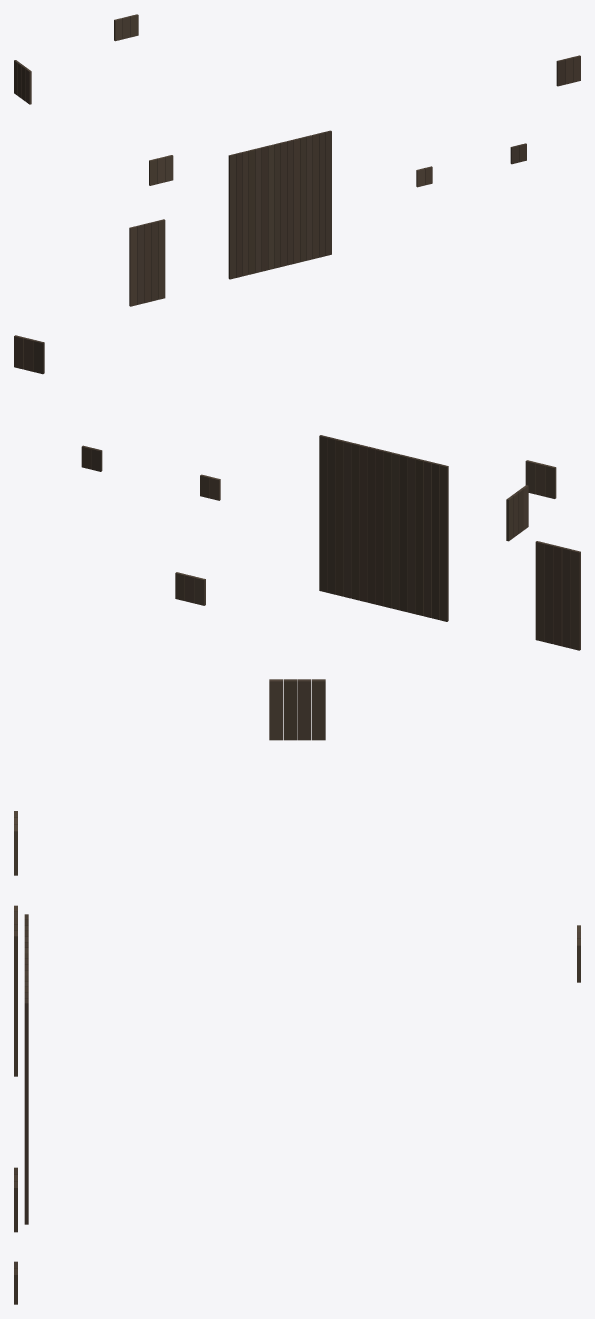
Rendered from SM_Bld_011_Wood.glb.
The picture shows the model from 3 angles, top to bottom: view 1: azimuth 30°, elevation 25°; view 2: azimuth 150°, elevation 25°; view 3: azimuth 270°, elevation 25°; orthographic projection. The views are drawn at different scales.
Visible parts, largest first — view 1: SM_Bld_011_Wood; view 2: SM_Bld_011_Wood; view 3: SM_Bld_011_Wood.
Boxes of the visible parts, left/top/right/bottom form: SM_Bld_011_Wood: left=14, top=14, right=580, bottom=306; SM_Bld_011_Wood: left=14, top=335, right=580, bottom=650; SM_Bld_011_Wood: left=14, top=679, right=580, bottom=1304.
Size of the model in its own units: 12.21 by 4.62 by 6.97.
